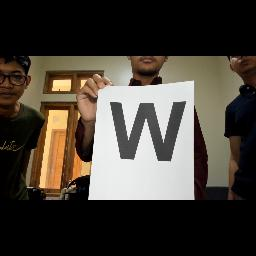w: (106, 92, 190, 168)
